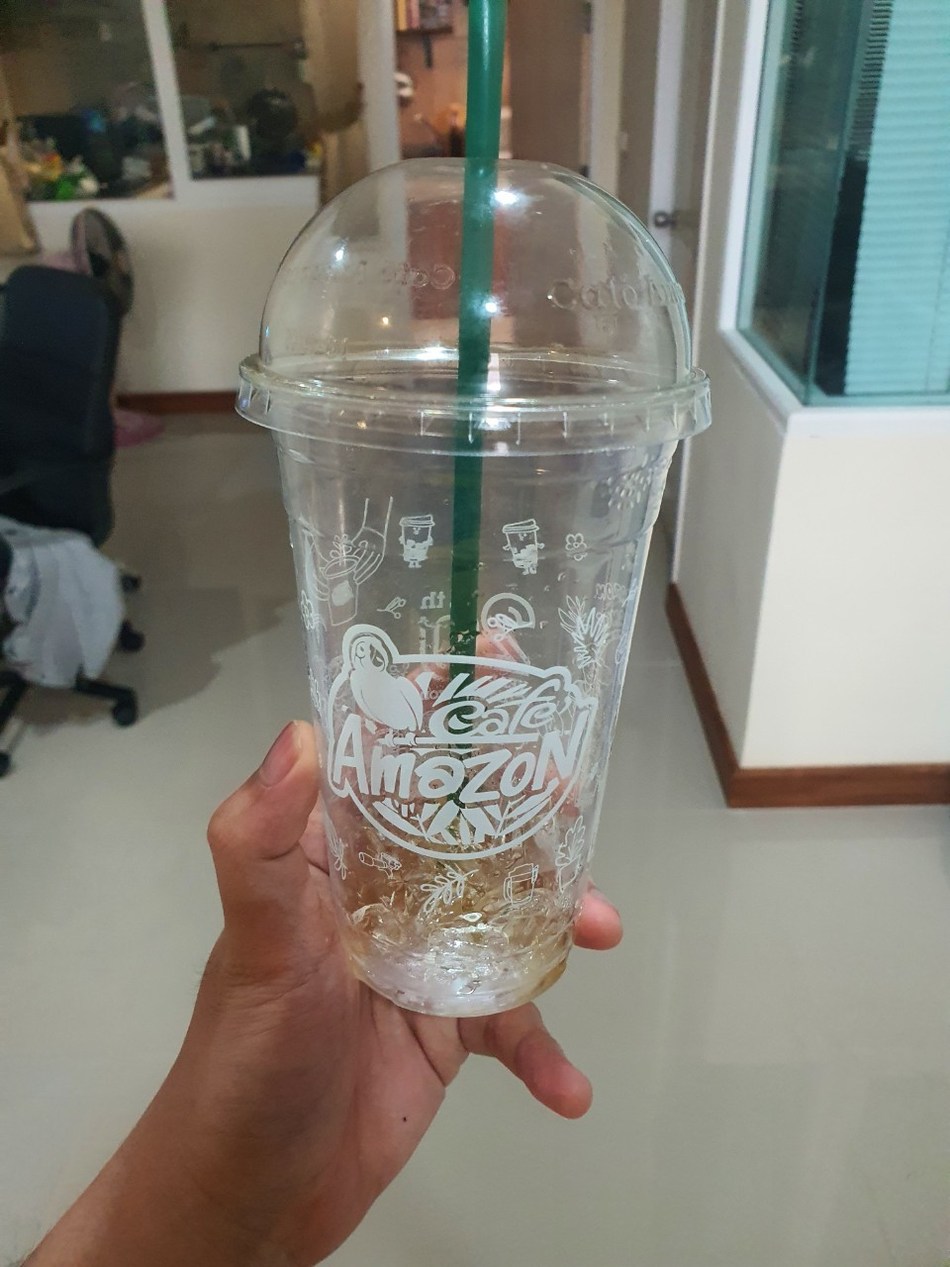plastic: (228, 124, 731, 1034)
